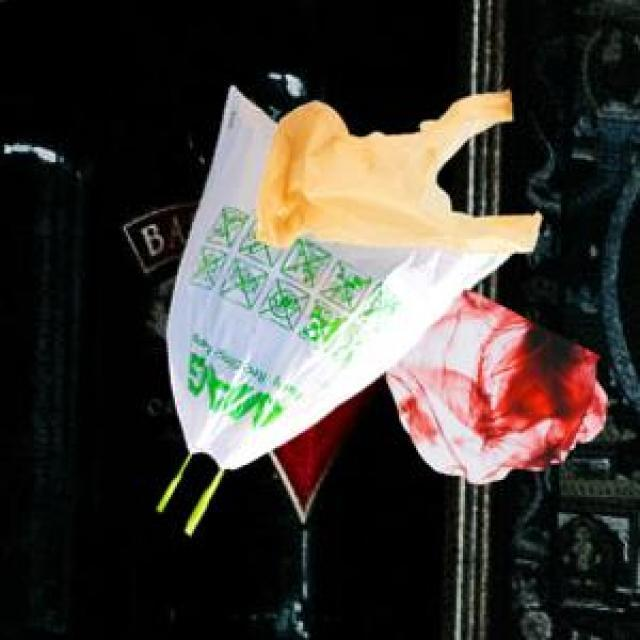waste: (182, 51, 554, 502), (262, 95, 536, 264)
